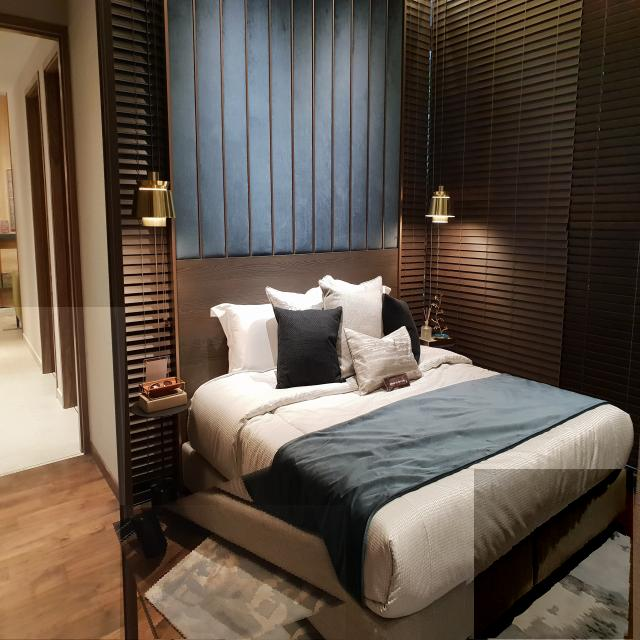floor: (0, 308, 125, 639), (121, 505, 346, 640), (475, 469, 633, 639)
